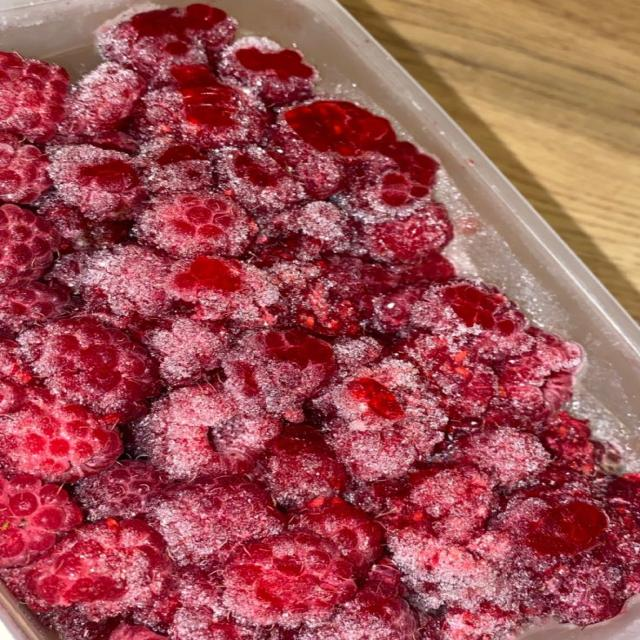raspberry: (6, 519, 170, 621), (317, 359, 446, 481), (20, 317, 159, 418), (146, 475, 284, 567), (223, 532, 355, 627), (387, 519, 517, 609), (0, 389, 122, 482), (97, 4, 236, 84), (135, 386, 246, 480), (223, 329, 335, 422), (272, 256, 397, 335), (493, 486, 609, 571), (410, 280, 533, 358), (53, 245, 172, 325), (140, 76, 266, 150), (318, 358, 444, 431), (492, 328, 582, 426), (397, 333, 498, 420), (390, 464, 497, 542), (97, 8, 206, 84), (339, 143, 439, 223), (168, 256, 279, 328), (136, 193, 257, 257), (49, 145, 146, 221), (0, 475, 81, 566), (168, 567, 270, 639), (260, 426, 347, 508), (328, 421, 442, 482), (289, 498, 384, 570), (218, 37, 317, 106), (372, 254, 455, 334), (216, 146, 306, 219), (283, 100, 395, 158), (60, 62, 146, 136), (268, 119, 346, 200), (297, 589, 420, 639), (141, 317, 230, 386), (452, 426, 551, 488), (0, 52, 68, 142), (356, 203, 453, 263), (546, 555, 627, 626), (74, 460, 167, 520), (39, 196, 132, 253), (268, 201, 353, 260), (519, 499, 607, 555), (0, 205, 57, 288), (138, 139, 214, 195), (539, 412, 602, 474), (209, 412, 282, 465), (0, 133, 52, 203), (0, 282, 69, 331), (182, 4, 237, 60), (438, 603, 519, 639), (39, 606, 120, 639), (0, 338, 33, 415), (350, 480, 407, 516), (50, 131, 139, 154), (397, 254, 455, 287), (362, 556, 406, 597), (607, 473, 639, 529), (0, 338, 33, 385), (0, 380, 27, 414), (109, 625, 166, 639)
